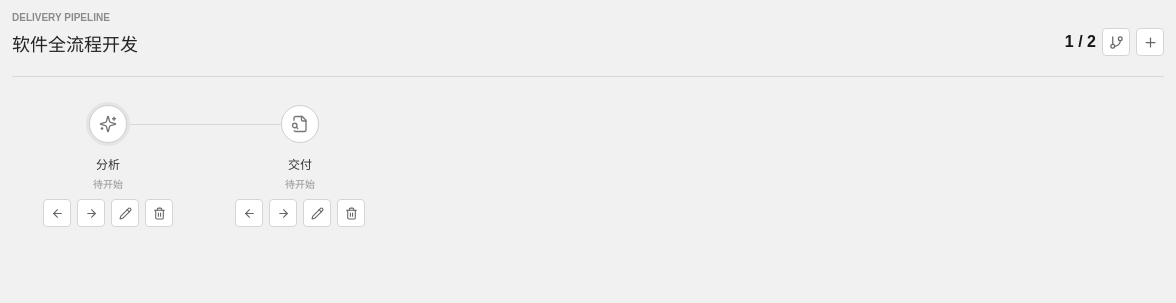
RequirementWorkflowNodeEditor transient command failures › publishes a safe Toast when adding a node fails
This screenshot has width=1176, height=303.
Step 1. Click the button named "插入流程节点" → (1150, 42), box [1136,28,1164,56]
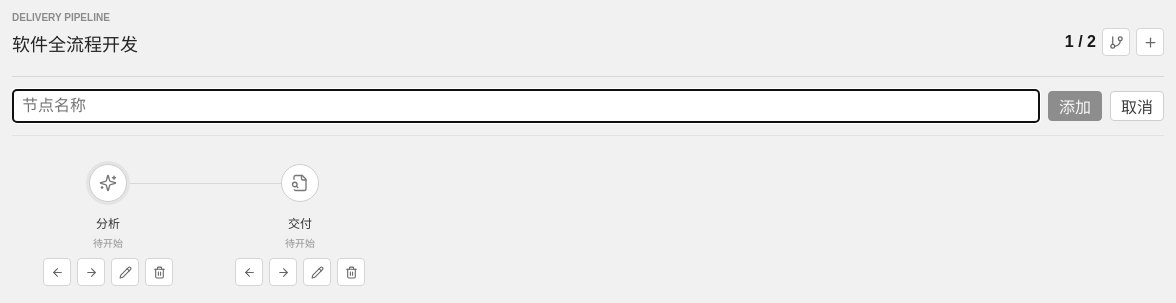
Step 2. Type "复核" into the field labelled "节点名称" → (526, 106), box [12,89,1040,123]
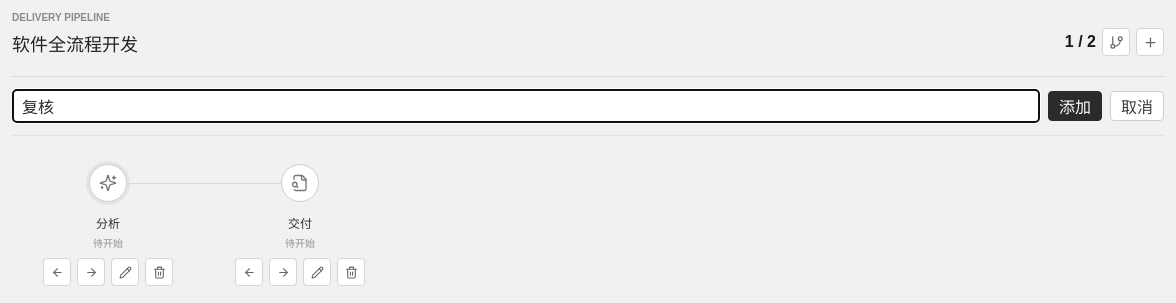
Step 3. Click the button "添加" → (1075, 106), box [1048,91,1102,121]
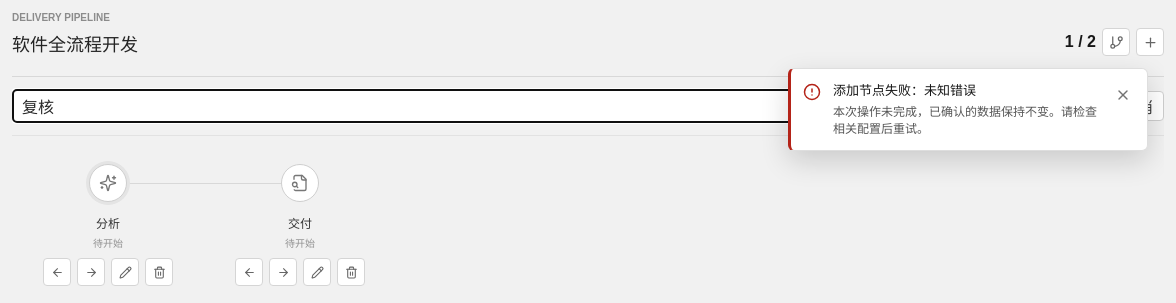
Check: the message shows "添加节点失败：未知错误", box [833,83,976,98]
